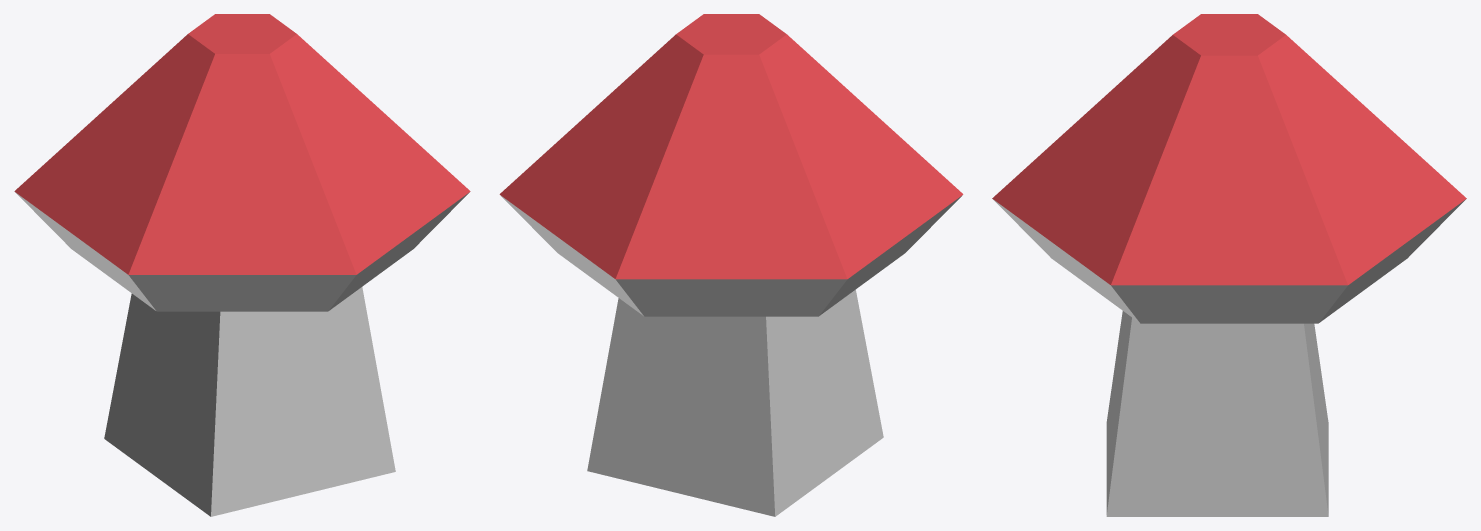
File: mushroom_red.obj
The picture shows the model from 3 angles, left to right: view 1: azimuth 30°, elevation 25°; view 2: azimuth 150°, elevation 25°; view 3: azimuth 270°, elevation 25°; orthographic projection. The views are drawn at different scales.
Parts seen in each view (by area): view 1: mushroom_red; view 2: mushroom_red; view 3: mushroom_red.
Part boxes in pixels (x1,y1,x2,y2): mushroom_red: (14, 14, 470, 516); mushroom_red: (499, 14, 963, 516); mushroom_red: (992, 14, 1466, 516).
Size of the model in its own units: 0.174 by 0.2028 by 0.2009.
